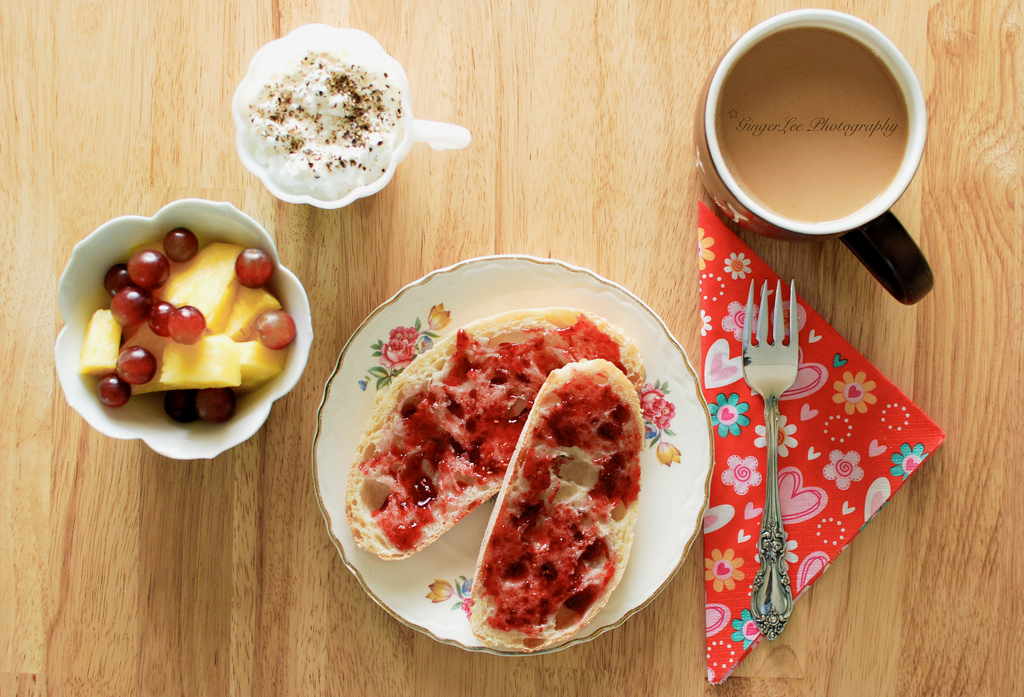slice of bread: (344, 296, 640, 530), (511, 353, 649, 645)
